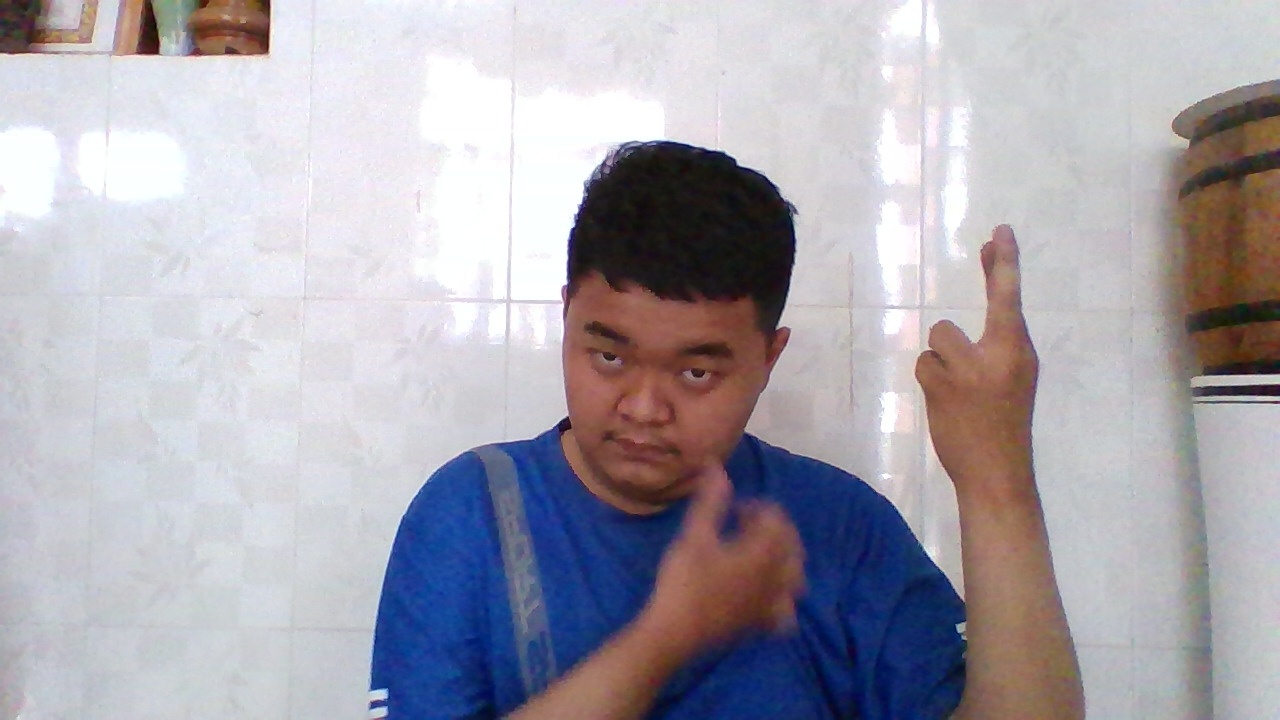R: (907, 221, 1042, 492)
